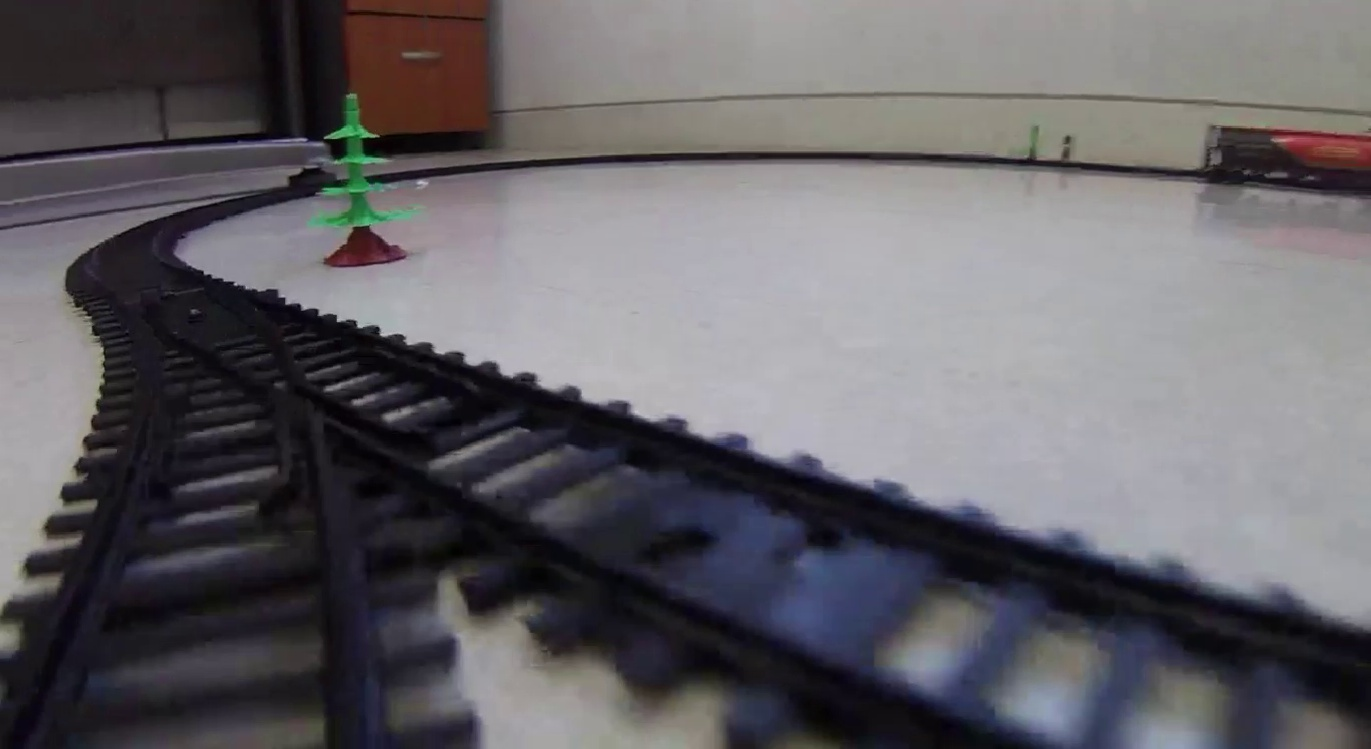tree: (307, 93, 416, 264)
